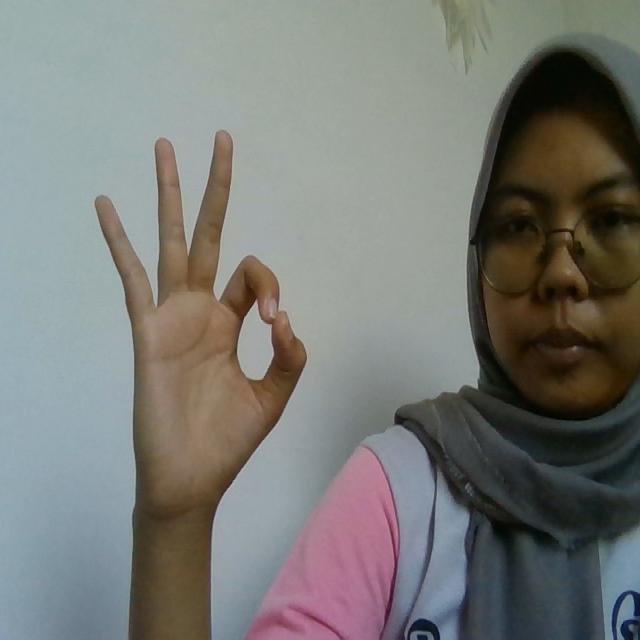F: (93, 129, 311, 507)
